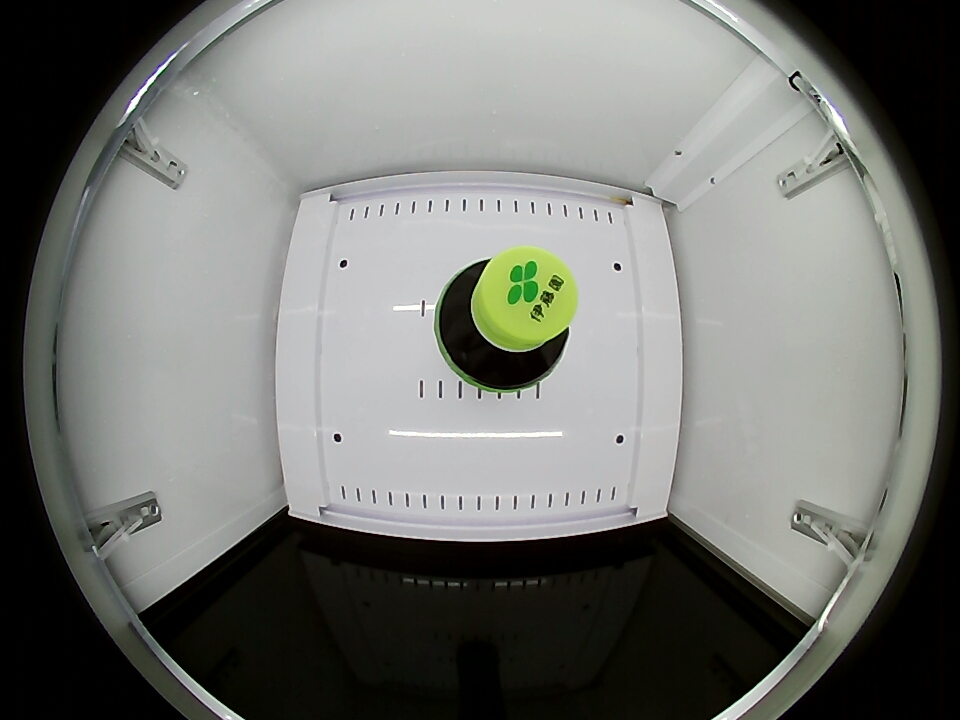yitengyuan: (436, 246, 577, 389)
